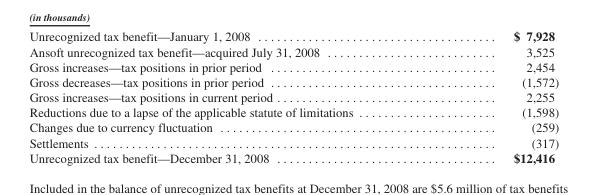table: (28, 28, 558, 164)
table column: (28, 28, 432, 164), (432, 28, 558, 164)
table row: (28, 58, 558, 74), (28, 28, 558, 43), (28, 43, 558, 58), (28, 74, 558, 89), (28, 89, 558, 104), (28, 104, 558, 119), (28, 119, 558, 134), (28, 134, 558, 149), (28, 149, 558, 164)
